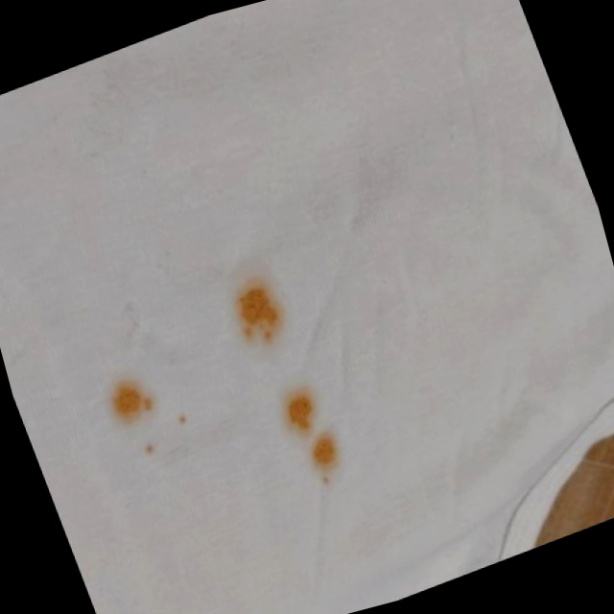kimchi: (94, 360, 171, 438), (224, 267, 293, 354), (306, 431, 359, 494), (276, 381, 327, 443), (132, 439, 165, 467), (174, 404, 203, 430)
